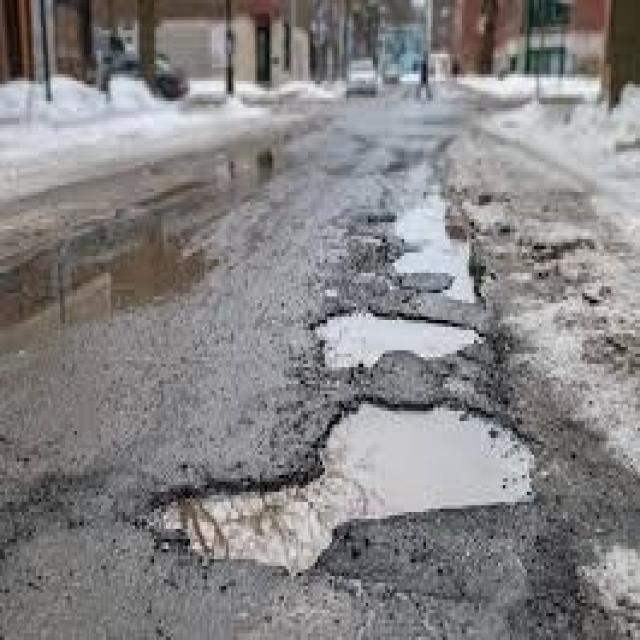road-pothole: (147, 391, 538, 577), (384, 146, 486, 302), (309, 301, 488, 372)
